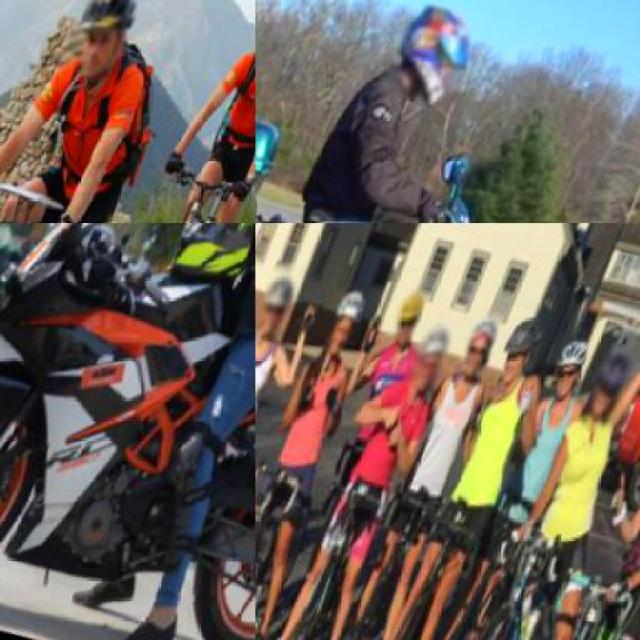With Helmet: (375, 0, 491, 125), (57, 0, 154, 95), (486, 310, 556, 402), (582, 348, 638, 450), (403, 318, 463, 405), (540, 338, 602, 422), (255, 262, 311, 352), (320, 278, 378, 364), (457, 312, 511, 390), (388, 289, 435, 353)
